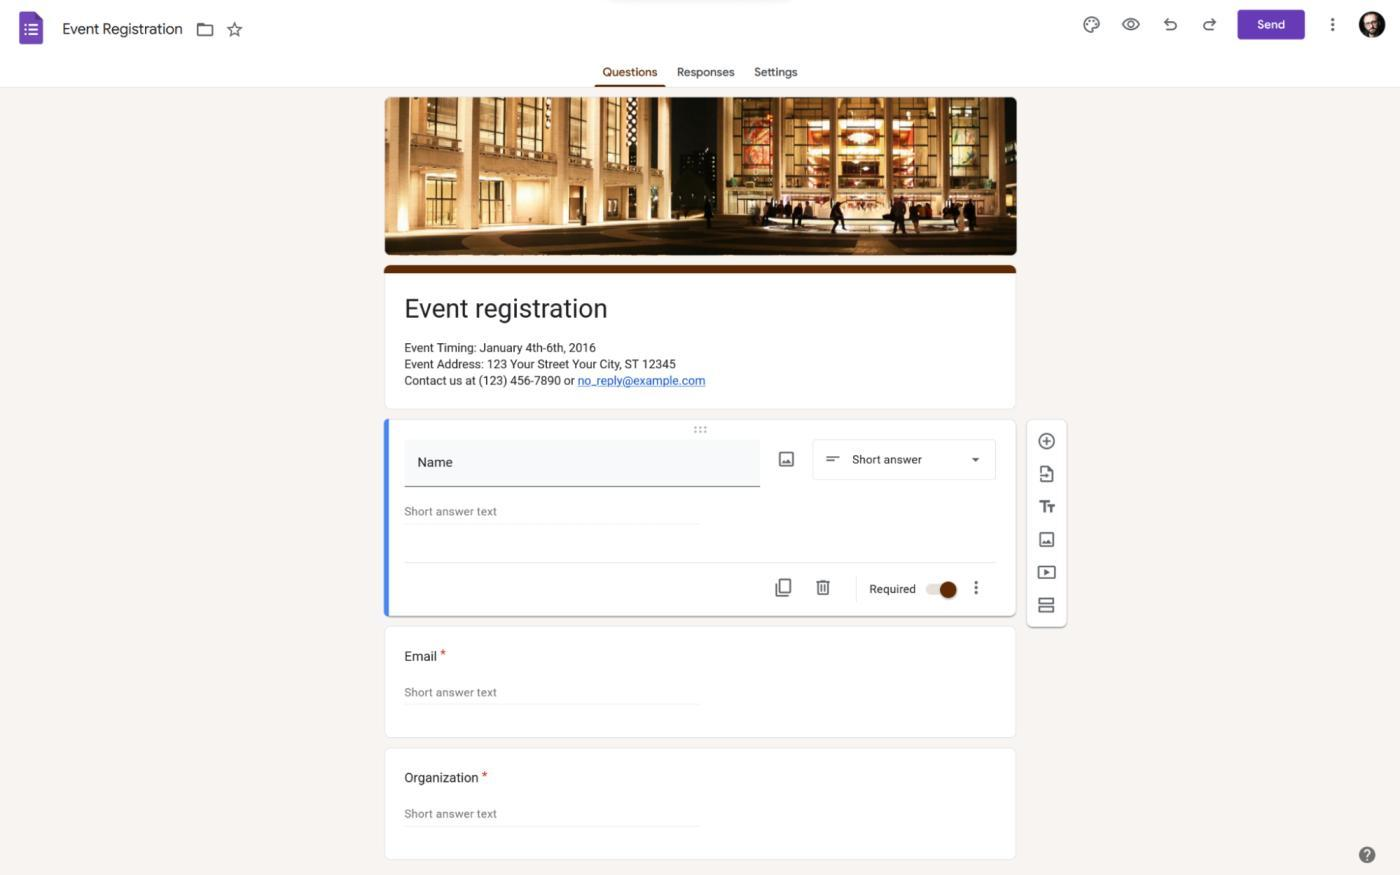button: (1239, 11, 1308, 42), (592, 60, 667, 86)
dropdown: (814, 442, 997, 480)
icon: (1352, 9, 1392, 42), (771, 573, 802, 602), (1076, 11, 1107, 40), (811, 574, 841, 604), (1035, 525, 1064, 553), (1031, 594, 1063, 618), (1032, 562, 1065, 586), (1036, 461, 1062, 489), (967, 577, 993, 604), (1159, 13, 1186, 38), (1035, 496, 1063, 520), (223, 18, 250, 42), (1036, 429, 1063, 454), (1118, 12, 1143, 37), (776, 448, 801, 473), (190, 20, 220, 41), (1324, 16, 1347, 39), (1201, 15, 1223, 37)
input: (404, 441, 761, 489)
label: (389, 295, 621, 328), (404, 770, 493, 790), (863, 582, 921, 600), (677, 66, 741, 82), (399, 648, 452, 667), (756, 66, 807, 83)
switch: (924, 581, 960, 602)
